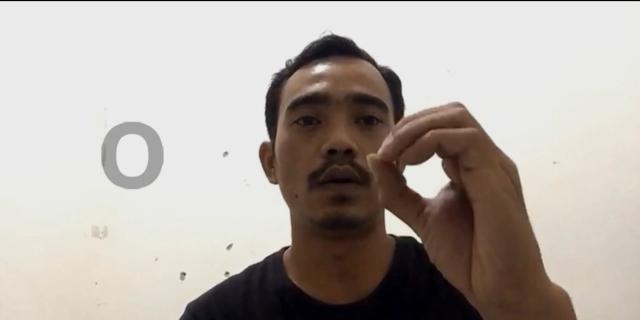O: (363, 91, 549, 320)
